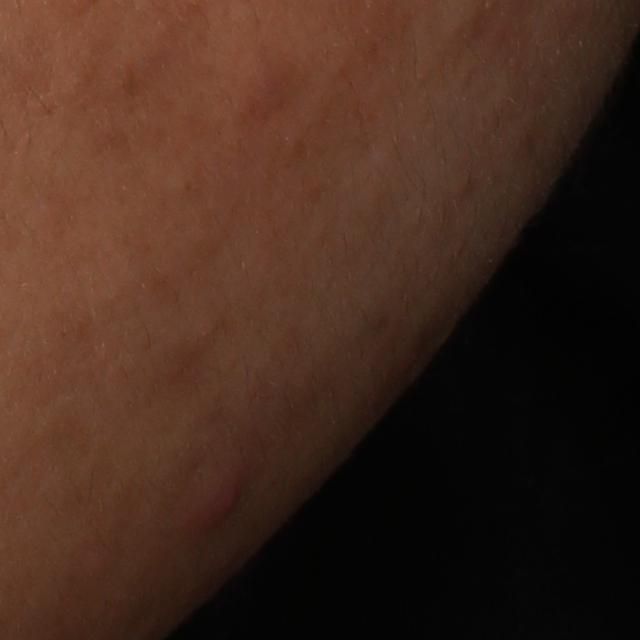papule: (185, 469, 253, 541)
